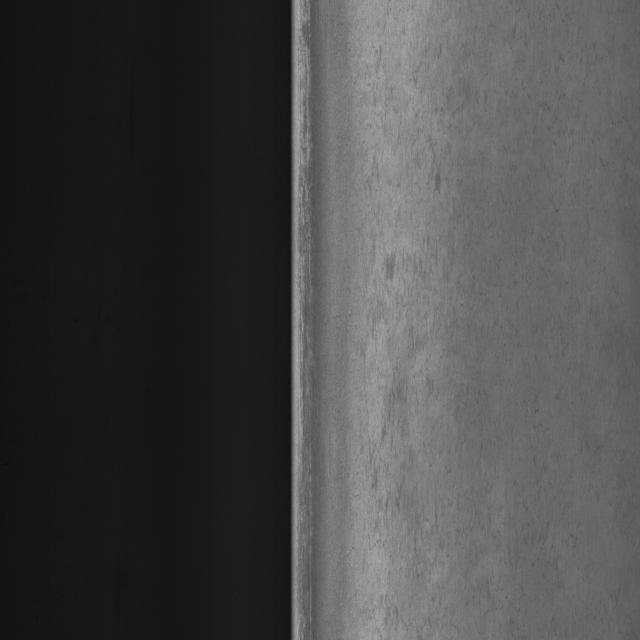inclusion: (360, 43, 473, 575)
